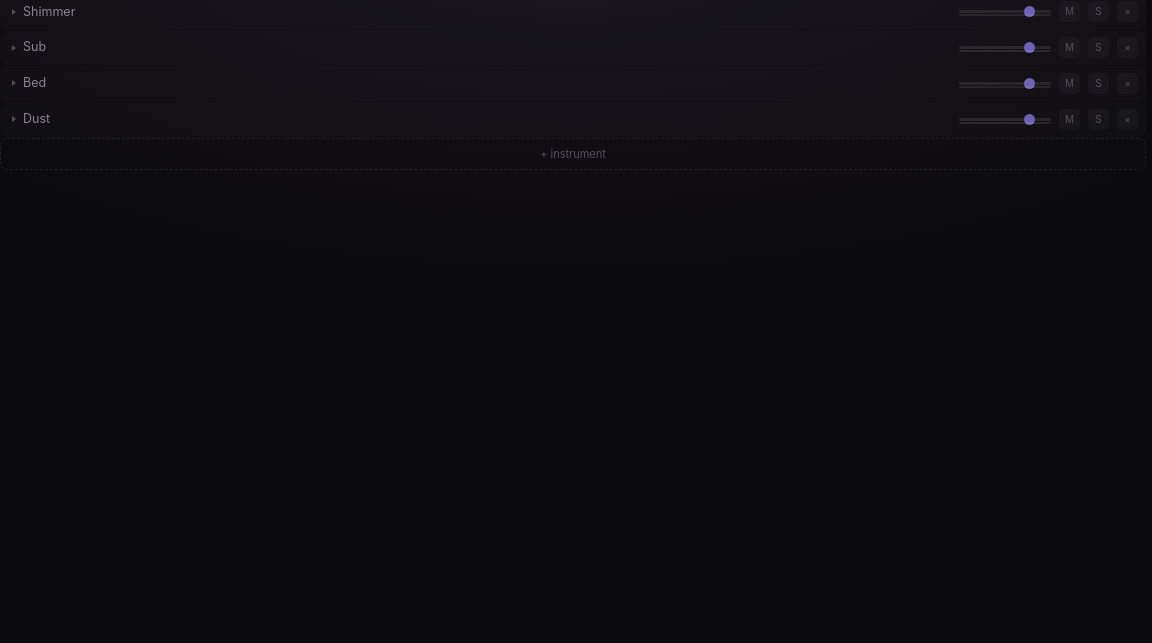
Test: RackView instrument picker › lists every instrument and cancels without adding
Click the button "+ instrument". click: (573,154)
box: [0,138,1146,170]
(page scrolled)
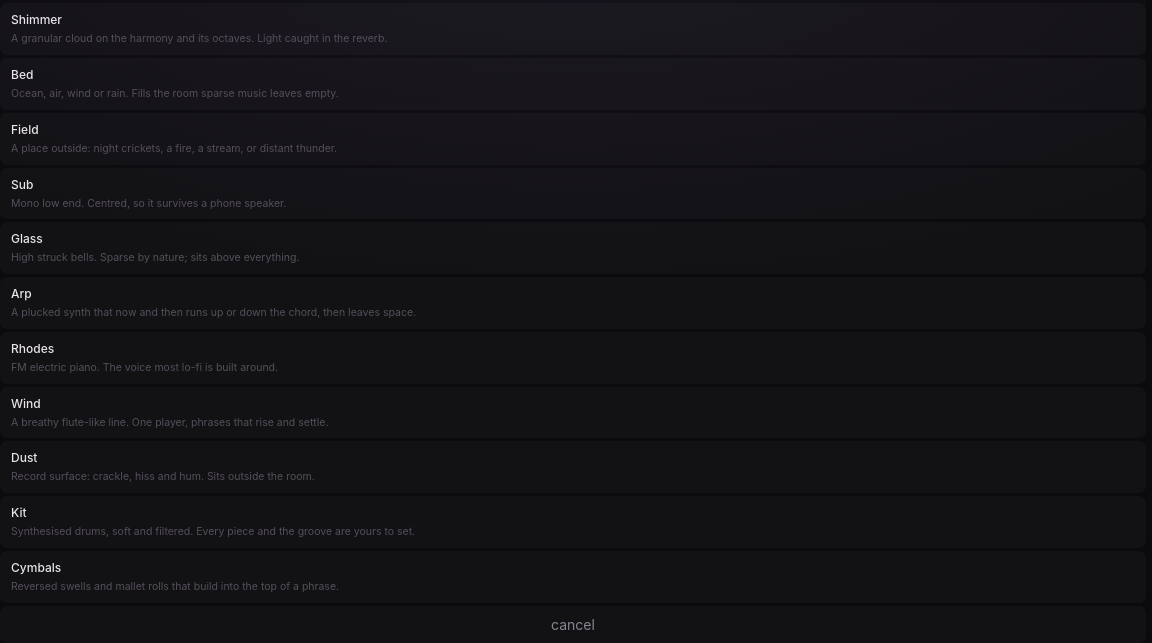
Click the button "cancel". click: (573,624)
box: [0,606,1146,642]
(page scrolled)
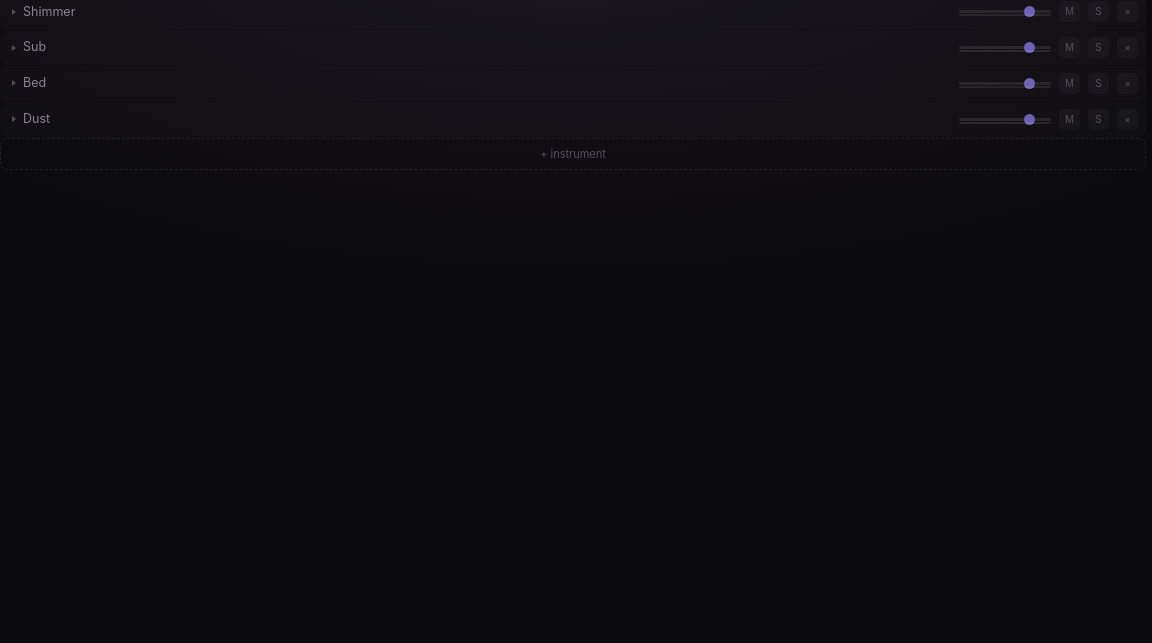
Check: the button "+ instrument" is shown, box [0,138,1146,170]
